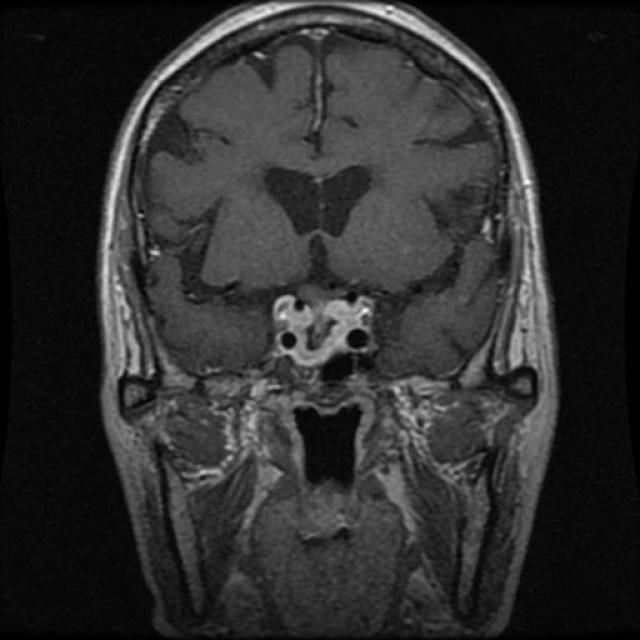pituitary: (268, 286, 382, 372)
